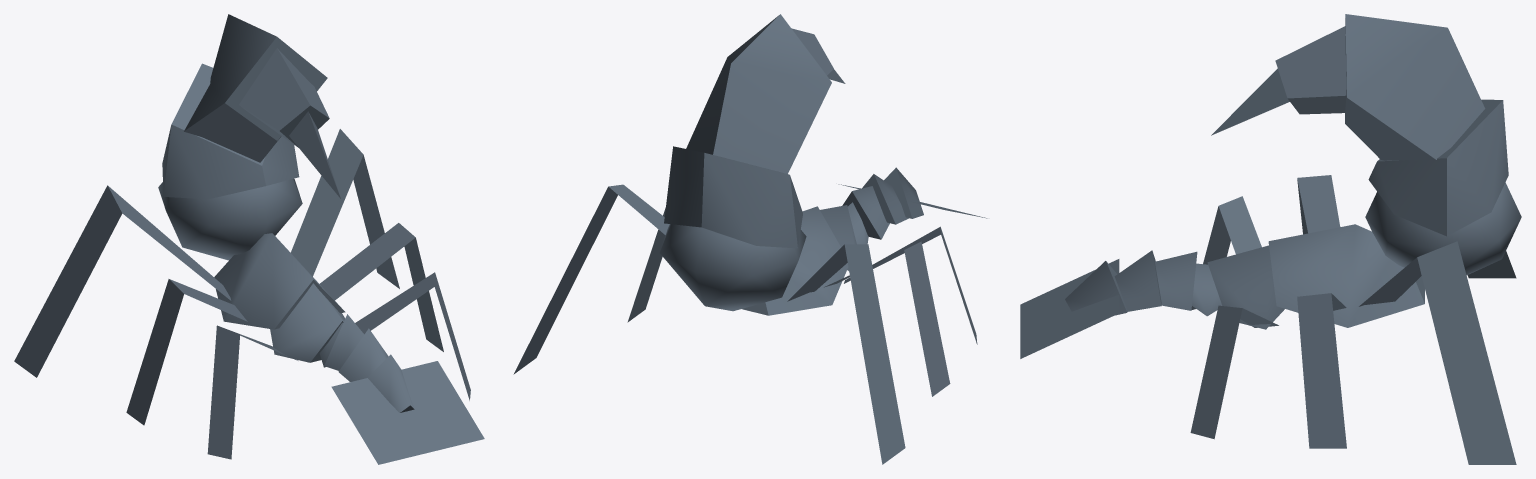
File: ant.fbx
The picture shows the model from 3 angles, left to right: view 1: azimuth 30°, elevation 25°; view 2: azimuth 150°, elevation 25°; view 3: azimuth 270°, elevation 25°; orthographic projection. The views are drawn at different scales.
Parts seen in each view (by area): view 1: ant_Mesh_001, ant_Mesh_002, ant_Mesh_003; view 2: ant_Mesh_001, ant_Mesh_002, ant_Mesh_003; view 3: ant_Mesh_001, ant_Mesh_002, ant_Mesh_003.
Boxes of the visible parts, box(x1,y1,x2,y2) form: ant_Mesh_001: box(158, 14, 484, 464); ant_Mesh_002: box(14, 129, 470, 459); ant_Mesh_003: box(16, 130, 469, 458); ant_Mesh_001: box(660, 14, 987, 315); ant_Mesh_002: box(513, 184, 977, 464); ant_Mesh_003: box(515, 185, 975, 463); ant_Mesh_001: box(1020, 14, 1521, 358); ant_Mesh_002: box(1190, 175, 1516, 464); ant_Mesh_003: box(1191, 176, 1515, 464).
Bounding box in the file's own units: 3.42 × 3.06 × 3.88.
